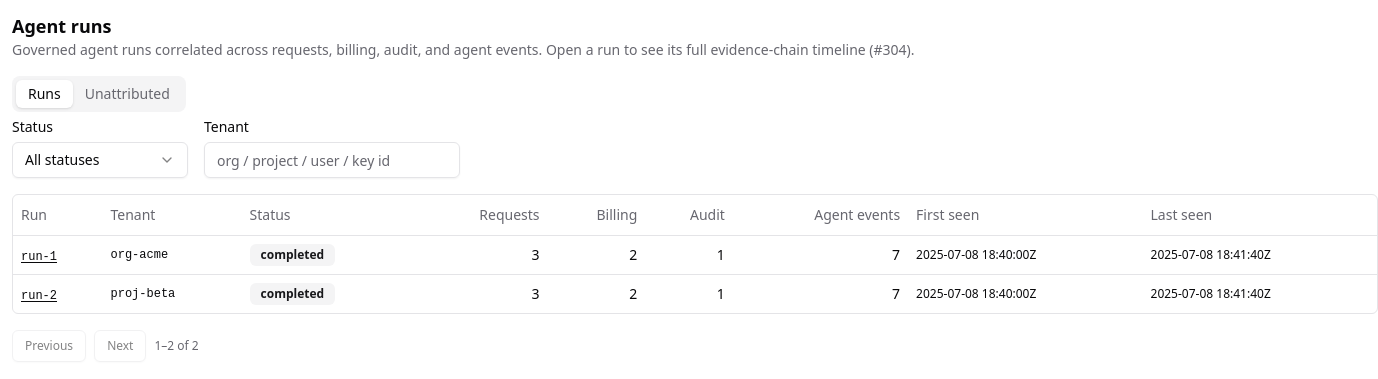
Test: AgentRunsPage › filters by tenant id substring
Expected: the link "run-1" is shown, [21,250,57,264]
Type "proj-beta" into the field labelled "Tenant" at (332, 160), box [204,142,460,178]
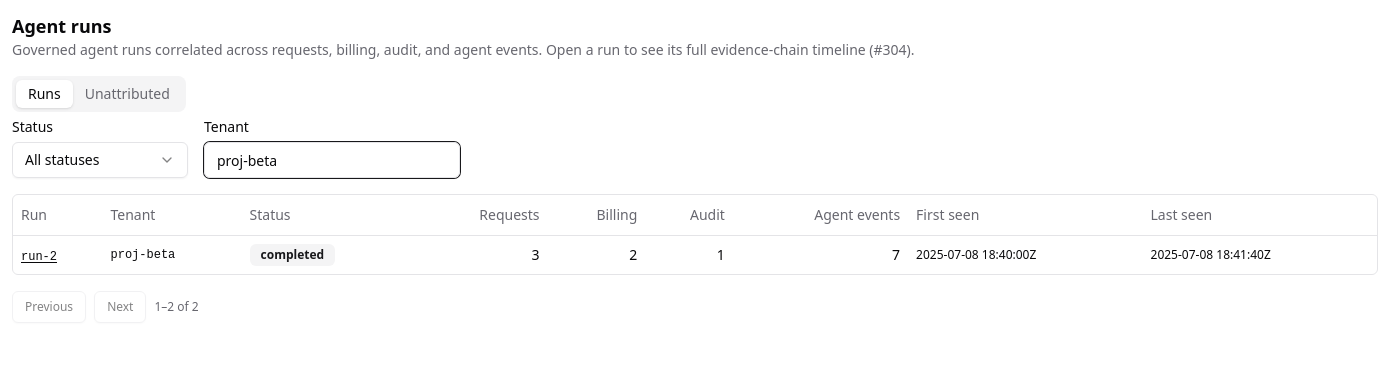
Expected: the link "run-2" is shown, [21,250,57,264]
Result: the link "run-1" is gone
